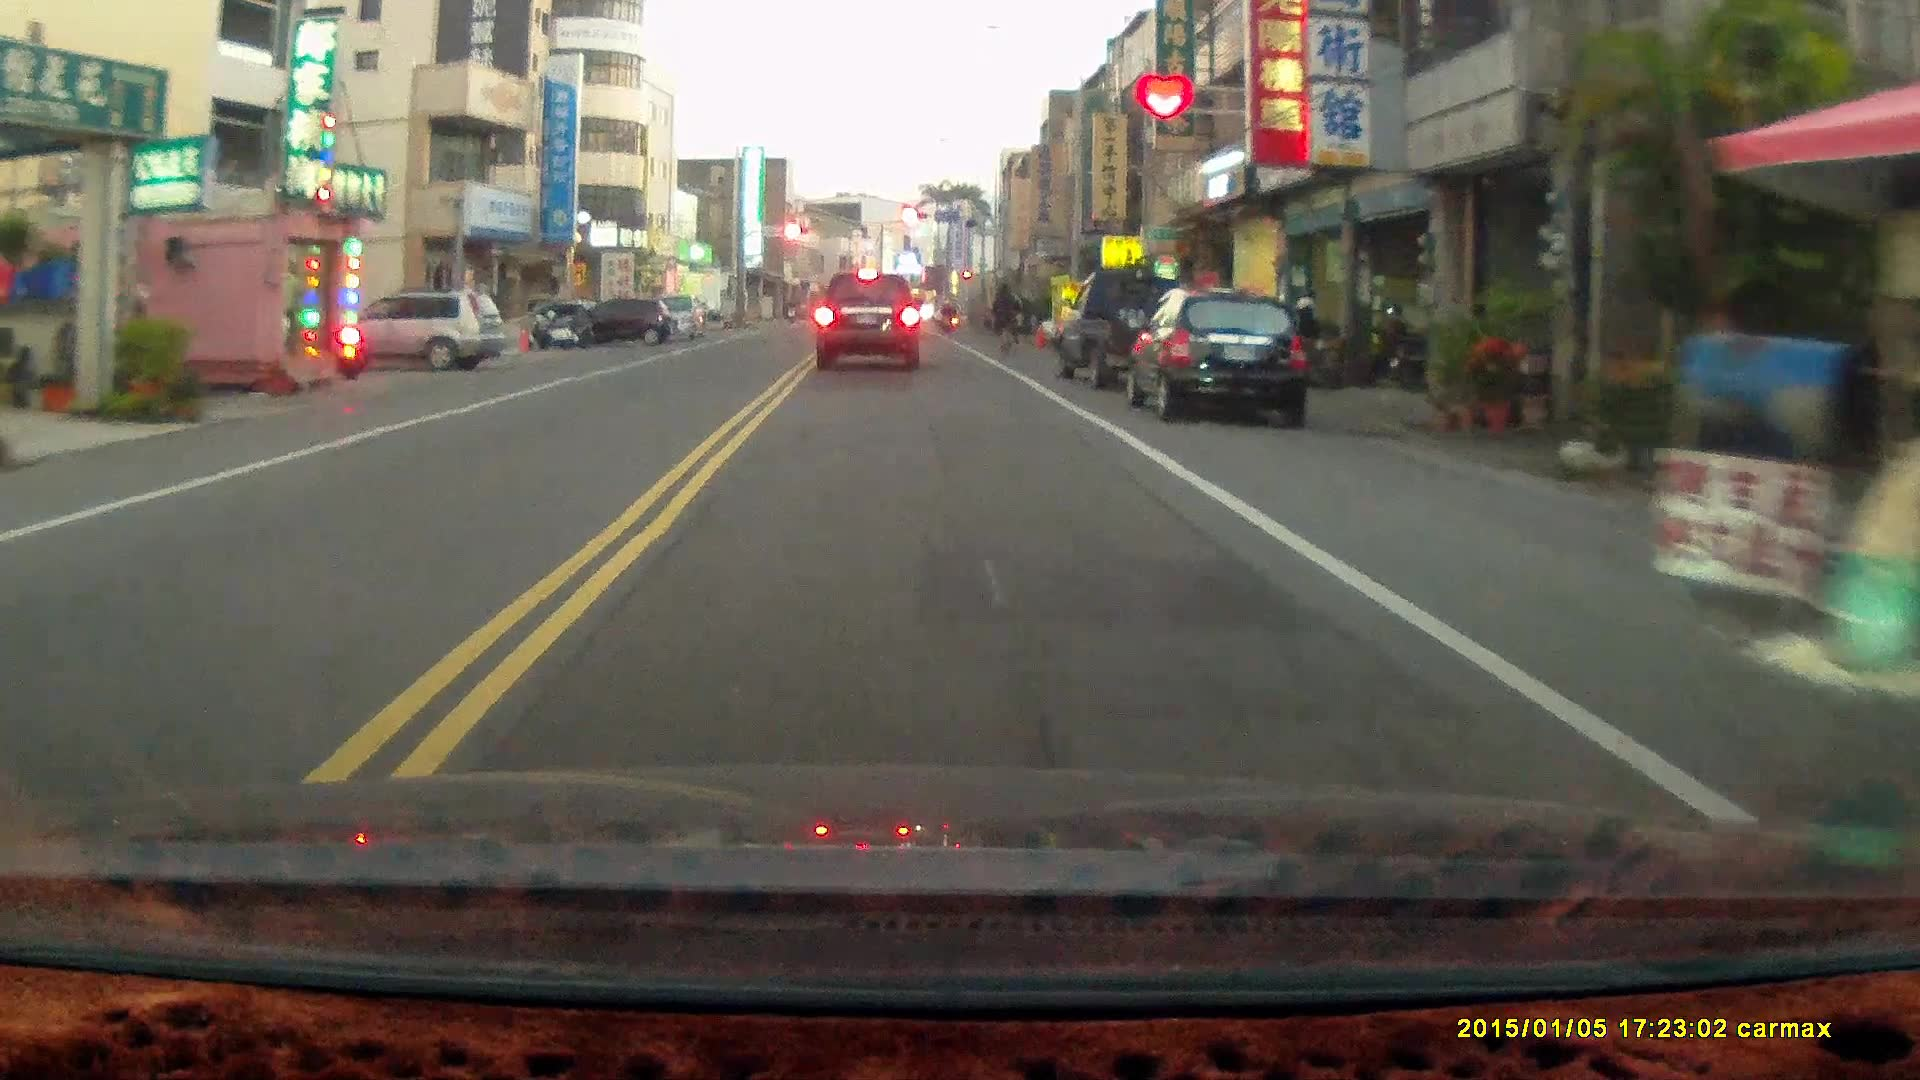rider: (990, 279, 1023, 357)
vehicle: (1141, 282, 1321, 418), (1055, 264, 1223, 388), (308, 291, 507, 371), (815, 268, 924, 373), (552, 296, 674, 345)
